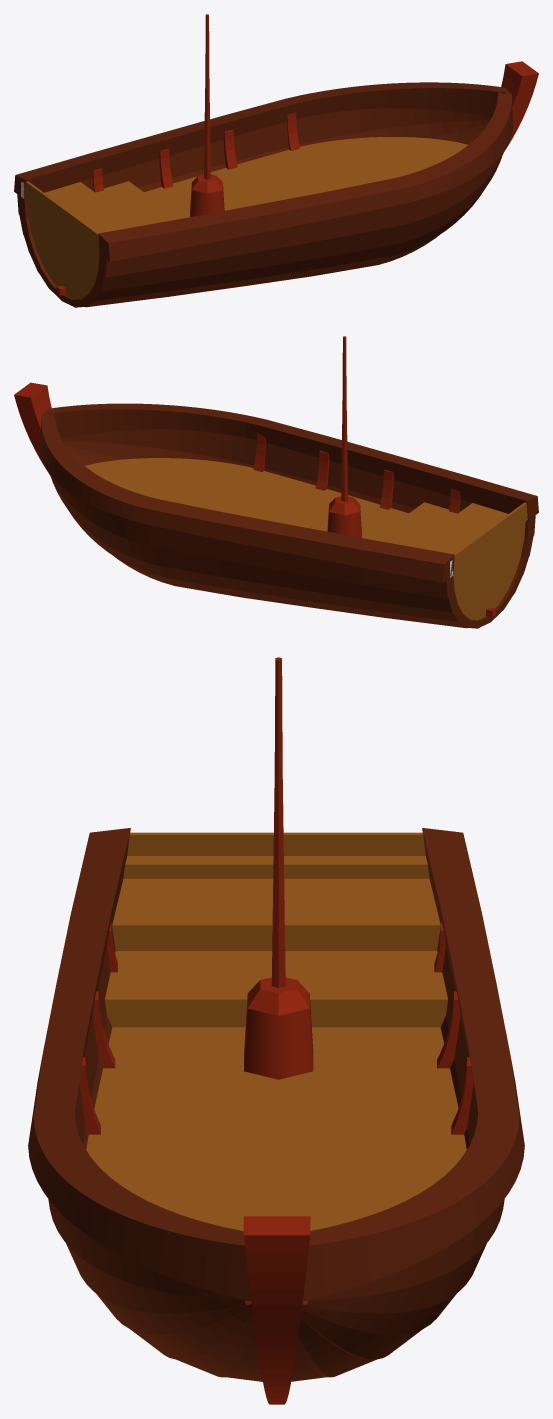
The model's file is barco_2.fbx.
3 renders of one model, top to bottom at view 1: azimuth 30°, elevation 25°; view 2: azimuth 150°, elevation 25°; view 3: azimuth 270°, elevation 25°, orthographic. The views are drawn at different scales.
Visible parts, largest first — view 1: Box015, Box014, barco_2, Box017, Cylinder060, Box012, Box011, Box010; view 2: Box017, Box014, barco_2, Box015, Cylinder060, Box012, Box011, Box010; view 3: Box014, barco_2, Box015, Box017, Cylinder060, Box012, Box011.
Boxes of the visible parts, left/top/right/bottom form: Box015: left=62, top=177, right=408, bottom=307; Box014: left=25, top=137, right=467, bottom=299; barco_2: left=56, top=61, right=538, bottom=295; Box017: left=14, top=98, right=296, bottom=300; Cylinder060: left=190, top=14, right=224, bottom=216; Box012: left=159, top=148, right=173, bottom=188; Box011: left=223, top=129, right=237, bottom=169; Box010: left=287, top=112, right=299, bottom=150; Box017: left=144, top=498, right=491, bottom=628; Box014: left=85, top=458, right=527, bottom=620; barco_2: left=14, top=382, right=496, bottom=616; Box015: left=256, top=419, right=538, bottom=621; Cylinder060: left=327, top=336, right=361, bottom=537; Box012: left=379, top=469, right=393, bottom=509; Box011: left=315, top=450, right=329, bottom=490; Box010: left=253, top=433, right=266, bottom=471; Box014: left=86, top=832, right=466, bottom=1230; barco_2: left=28, top=1112, right=524, bottom=1404; Box015: left=28, top=828, right=130, bottom=1149; Box017: left=422, top=828, right=524, bottom=1149; Cylinder060: left=244, top=657, right=313, bottom=1079; Box012: left=92, top=991, right=460, bottom=1068; Box011: left=79, top=1057, right=473, bottom=1134.
Bounding box in the file's own units: 798 × 445 × 363.
